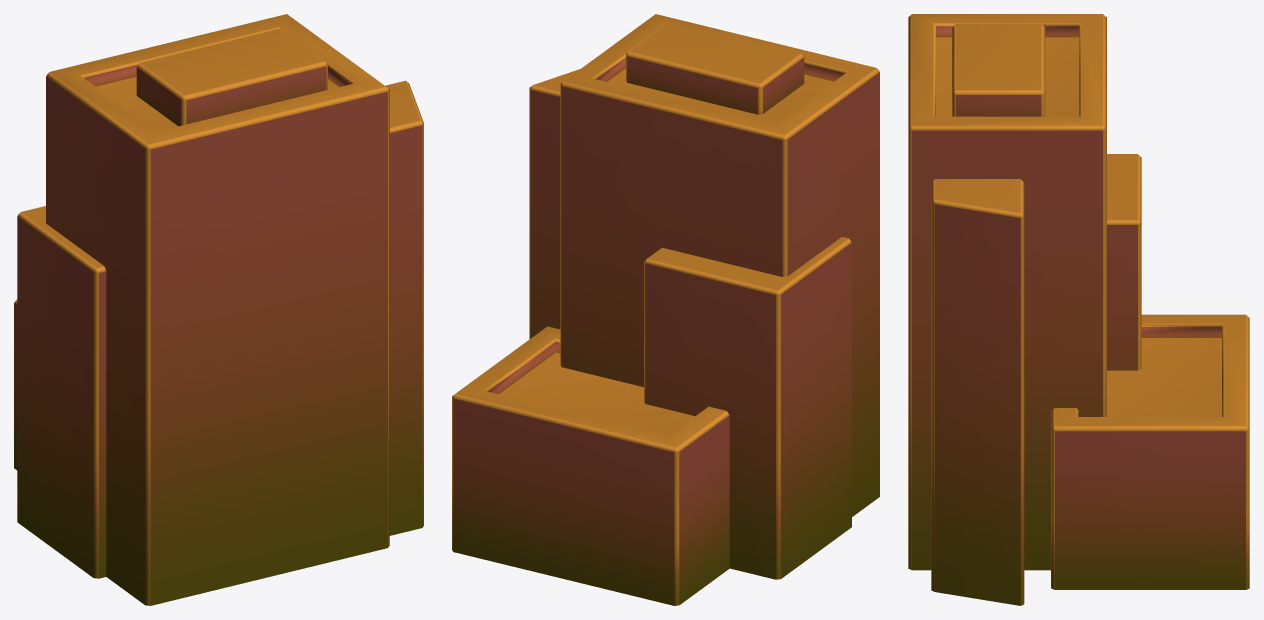
The model's file is prop_BuildingSmall03.fbx.
3 views of the same model, side by side, from view 1: azimuth 30°, elevation 25°; view 2: azimuth 150°, elevation 25°; view 3: azimuth 270°, elevation 25° (orthographic). The views are drawn at different scales.
Parts seen in each view (by area): view 1: prop_BuildingSmall03; view 2: prop_BuildingSmall03; view 3: prop_BuildingSmall03.
Part boxes in pixels (x1,y1,x2,y2): prop_BuildingSmall03: (14,14,423,605); prop_BuildingSmall03: (452,14,879,605); prop_BuildingSmall03: (908,14,1249,605).
Bounding box in the file's own units: 950 × 1311 × 881.
